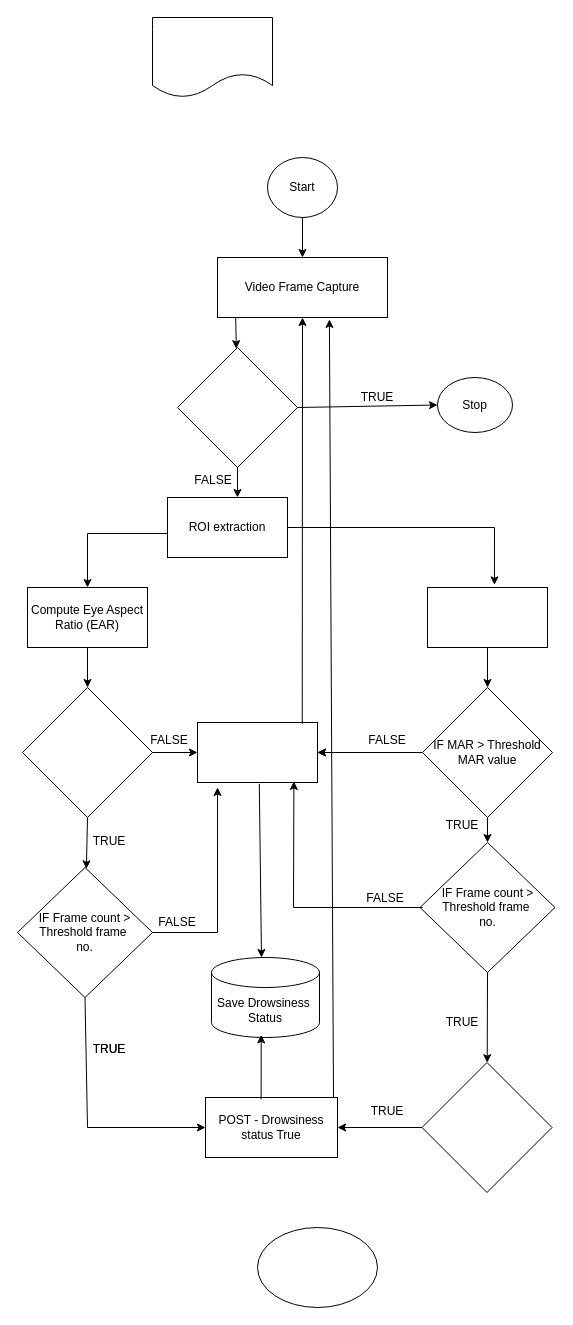
This 573x1325 diagram has some shape labels left out. Here are the shapes that lost their labels. From the top down, the centre of each, then its label:
point (237, 407): if Ctrl + C or "q key
point (487, 617): Compute Mouth Aspect Ratio (MAR)
point (87, 752): IF EAR < Threshold EAR value
point (257, 752): POST - Drowsiness status False
point (486, 1127): IF yawn count > Threshold yawn count no.
